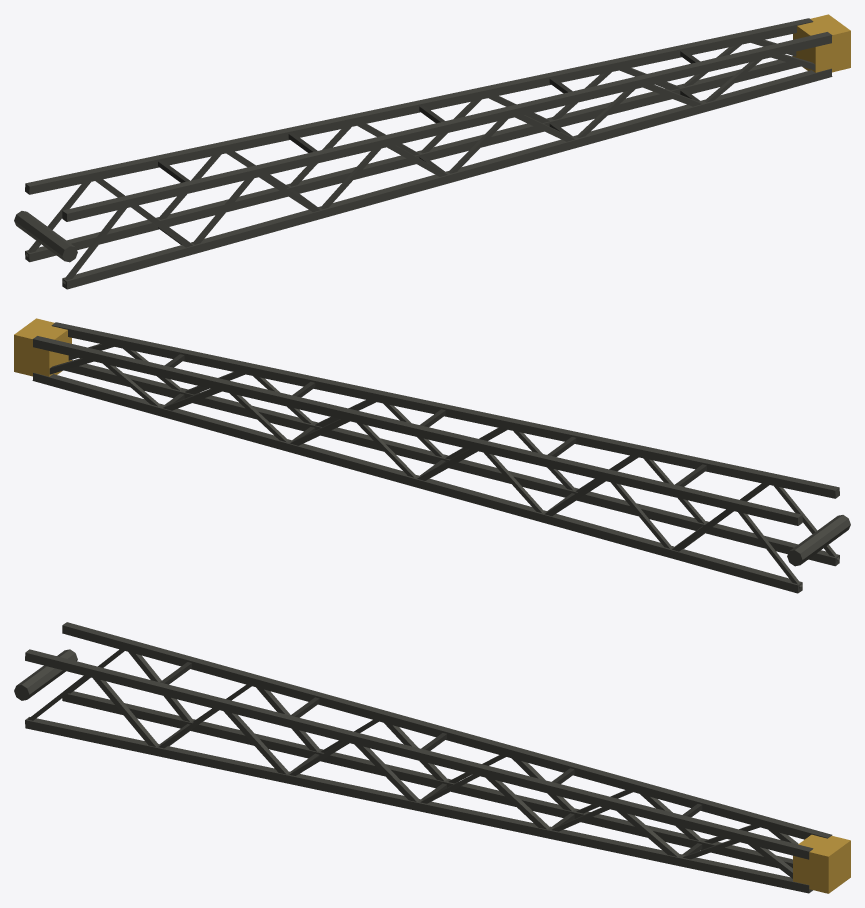
File: crane_jib_01.glb
3 views of the same model, one above another, from view 1: azimuth 30°, elevation 25°; view 2: azimuth 150°, elevation 25°; view 3: azimuth 330°, elevation 25° (orthographic).
Visible parts, largest first — view 1: CraneJib_01; view 2: CraneJib_01; view 3: CraneJib_01.
Boxes of the visible parts, x1,y1,x2,y2 form: CraneJib_01: (14, 14, 850, 289); CraneJib_01: (14, 318, 850, 593); CraneJib_01: (14, 622, 850, 893).
Bounding box in the file's own units: 12.42 × 1.12 × 1.3.
